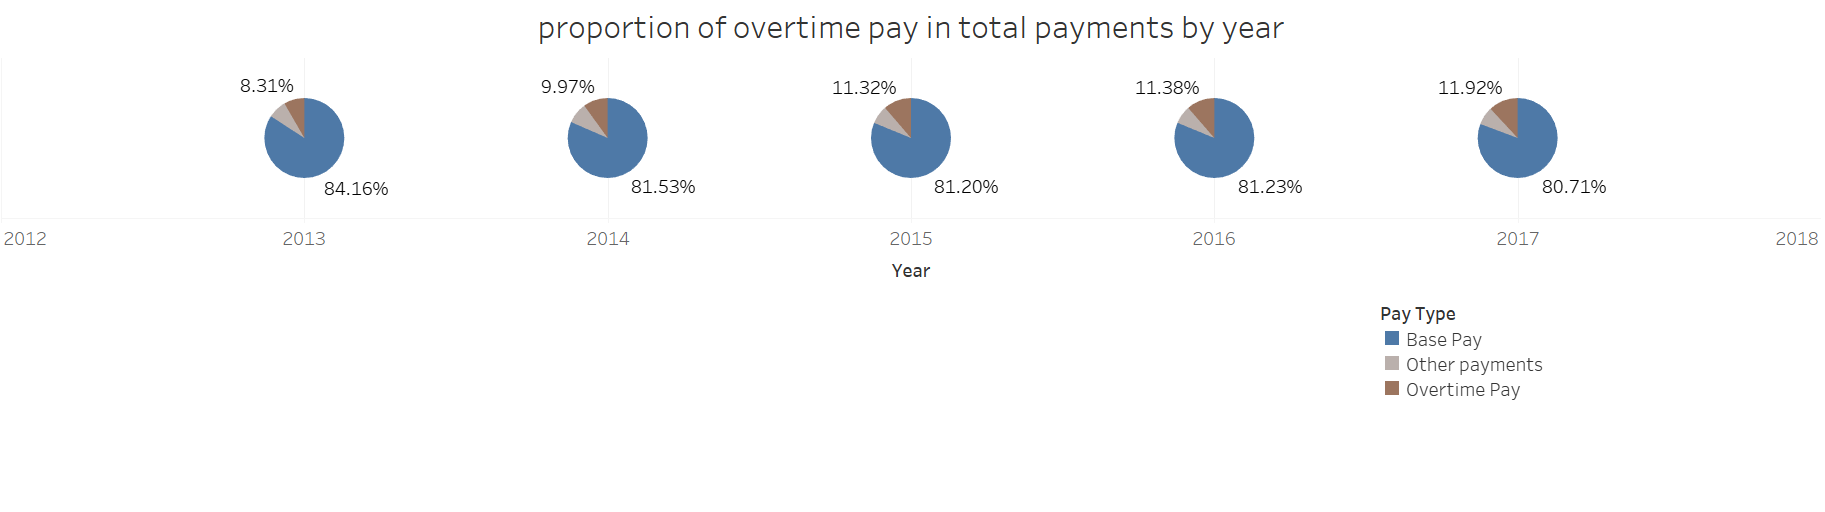

What the dashboard file says about the page in this screenshot:
{"tool":"tableau","page":{"name":"Dashboard 1","canvas":[1000,1000],"units":"permille","ordinal":0},"visuals":[{"type":"worksheet","title":"Sheet 1","mark":"Pie","cols":["Year"],"box":[4.3,6.8,991.3,986.4]},{"type":"legend","title":"Sheet 1","param":"[federated.0njdev5050mkqz1fvhf190zuf1ix].[none:Pay Type:nk]","box":[754.3,263.8,168.7,126.4]}]}

Visuals, with their boxes on the dashboard's canvas, which has no fixed pixel size, in thousandths of its width and height (x1, y1, x2, y2). These are canvas units, not pixel positions in the 1825x512 screenshot, which may show the page scaled, cropped or inside an application window:
"Sheet 1" worksheet (Pie marks): (left=4, top=7, right=996, bottom=993)
"Sheet 1" legend: (left=754, top=264, right=923, bottom=390)
